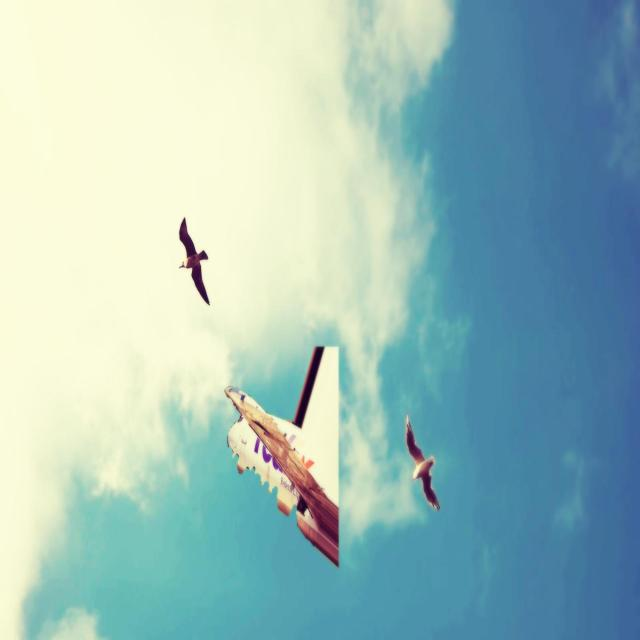airplane: (224, 344, 339, 568)
